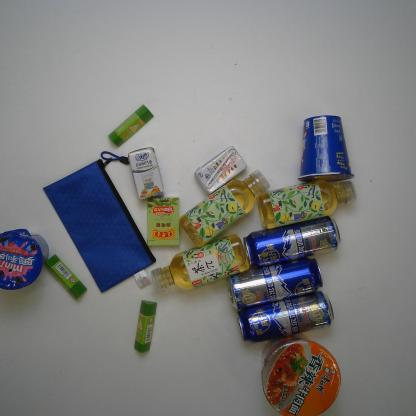Alcohol: (235, 289, 335, 342), (226, 256, 324, 310), (242, 215, 342, 267)
Candy: (146, 196, 182, 247)
Dessert: (297, 114, 356, 183), (0, 228, 50, 290)
Drink: (178, 169, 270, 248), (149, 232, 251, 292), (255, 180, 357, 230)
Instant Noodles: (260, 332, 342, 416)
Milk: (194, 145, 248, 194), (128, 147, 165, 201)
Stationery: (43, 158, 156, 294), (107, 103, 154, 148), (44, 254, 87, 300), (133, 300, 157, 354)
